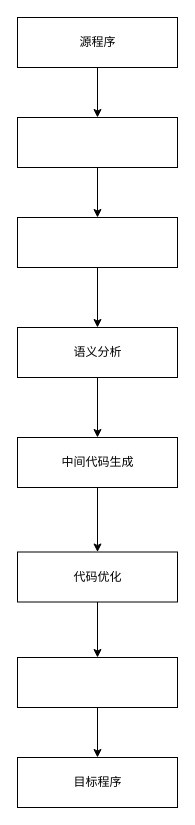
The diagram is 195 pixels wide and 825 high, and some of its shapes have lost their labels. The centre of each missing label's shape, as x and y in pixels:
"目标代码生成" goes at point 97,682.
"词法分析" goes at point 97,142.
"语法分析" goes at point 97,242.
